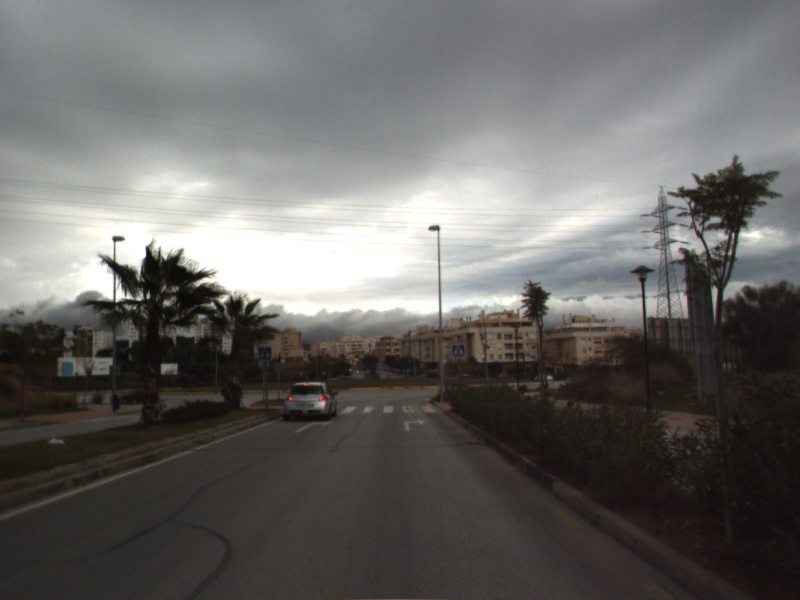RIGHT: (293, 418, 335, 434), (401, 416, 428, 433)
